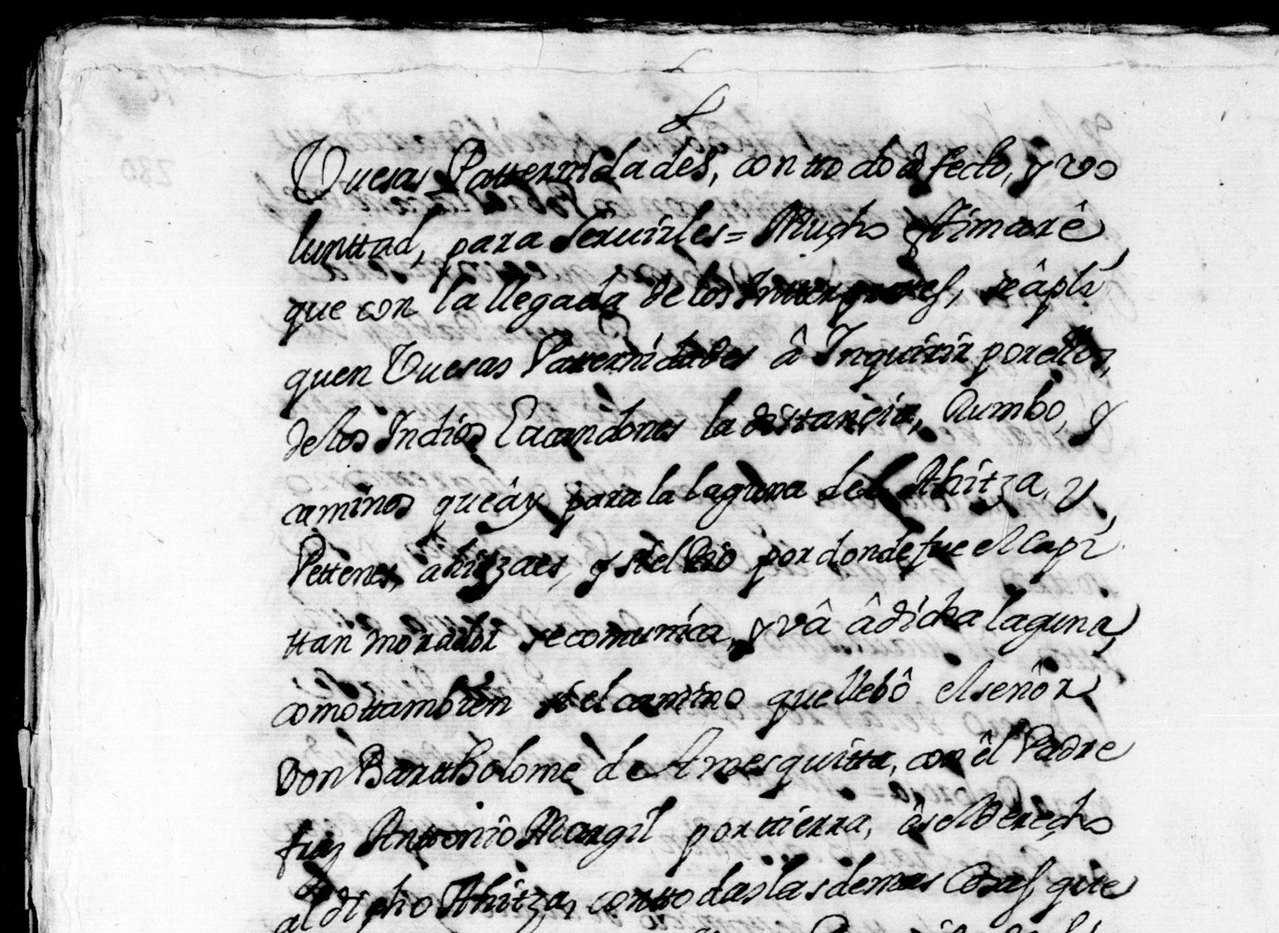lacandon: (495, 394, 687, 449)
